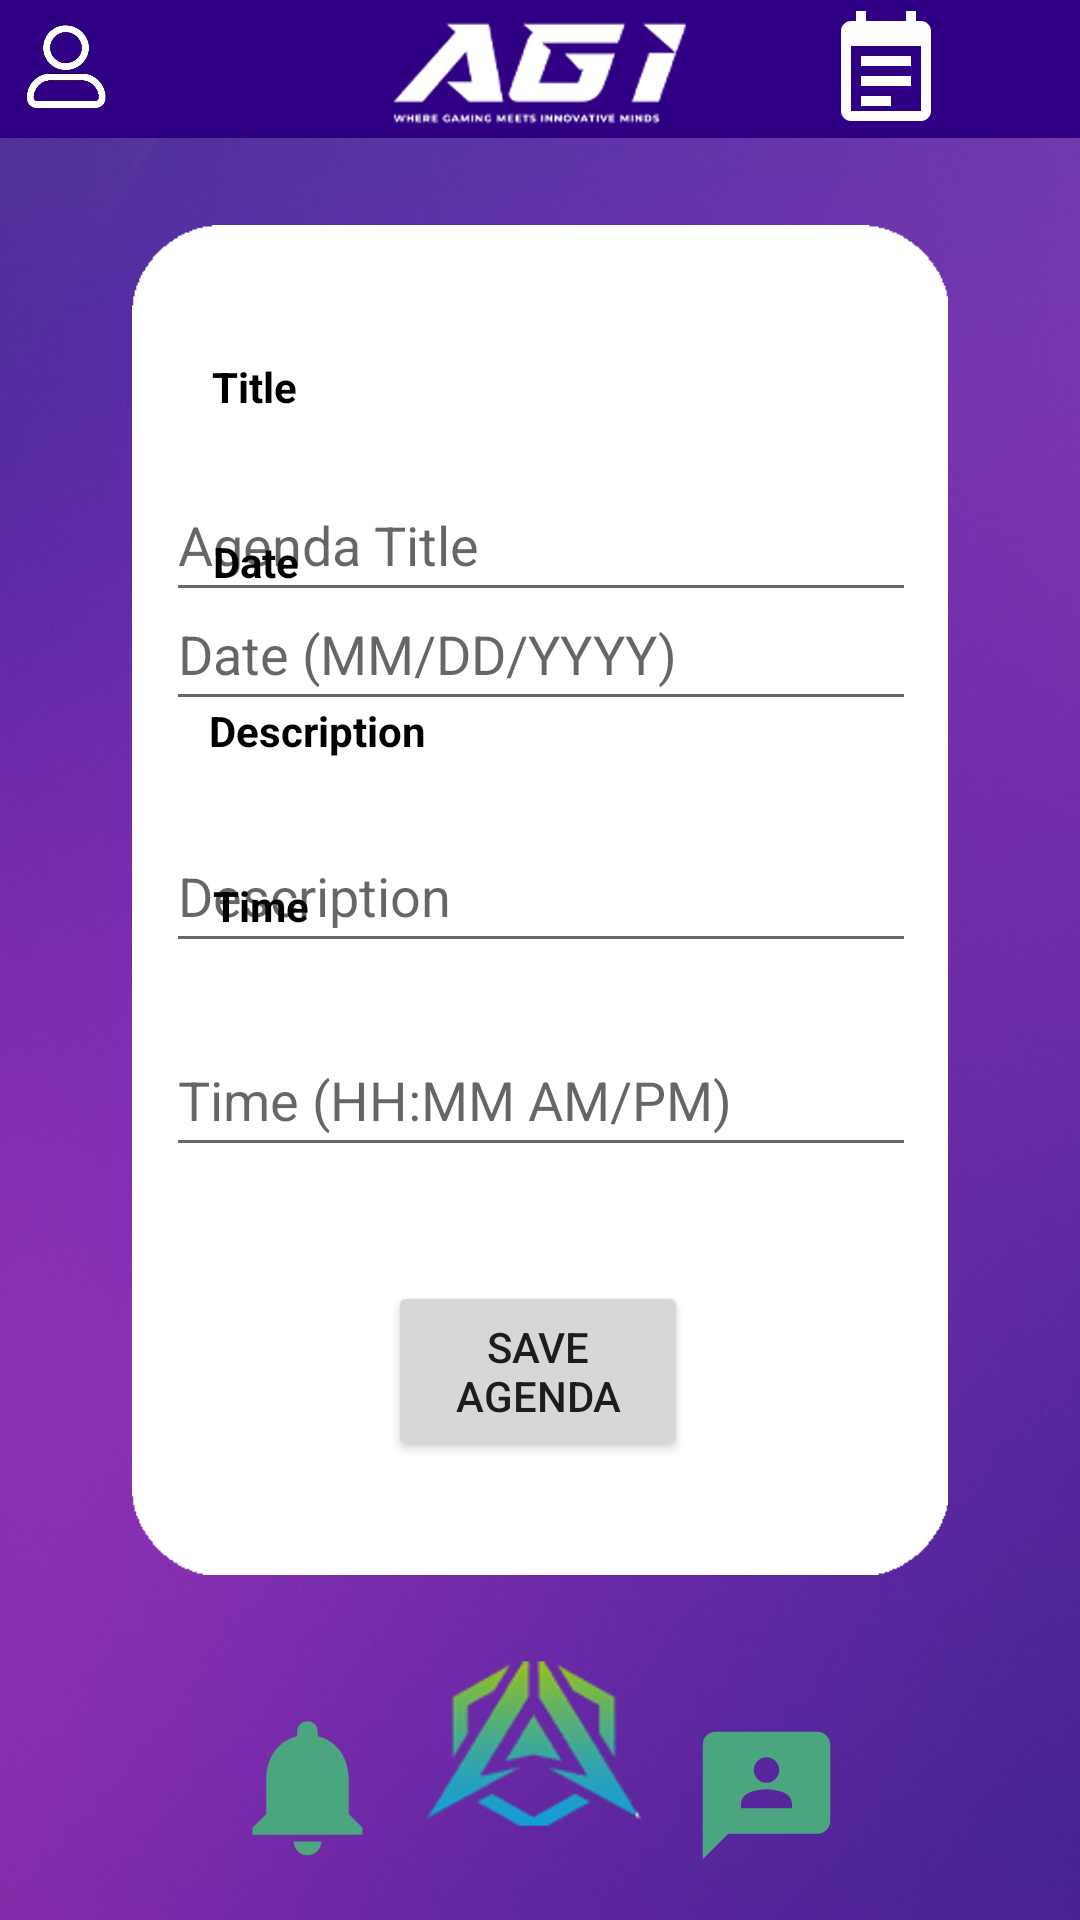

Icon bounding boxes for this 1080w x 1920h phone screenshot, format (left=x1, top=y1, right=x2, bottom=y2):
agenda: (left=841, top=11, right=931, bottom=121)
directicon: (left=702, top=1731, right=831, bottom=1859)
notifications: (left=252, top=1721, right=363, bottom=1856)
profileicon: (left=27, top=25, right=106, bottom=108)
